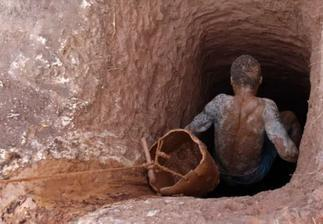MiningTool: (135, 128, 222, 197)
Person: (184, 55, 303, 187)
